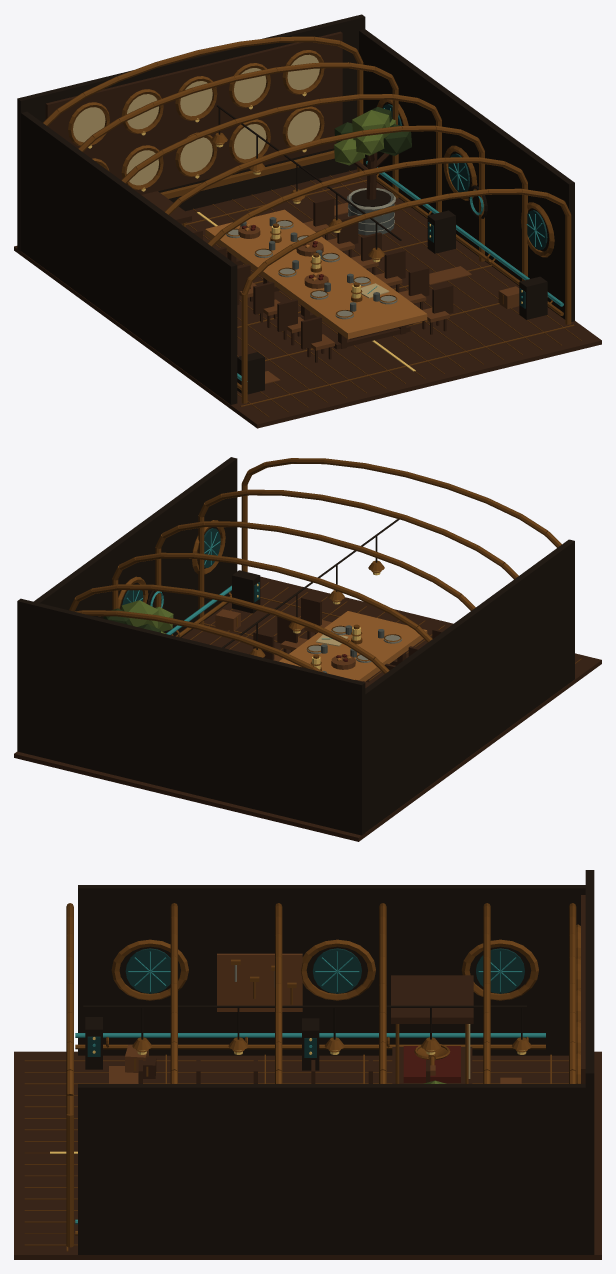
Rendered from ark-long-table-hall-e10.glb.
3 renders of one model, top to bottom at view 1: azimuth 30°, elevation 25°; view 2: azimuth 150°, elevation 25°; view 3: azimuth 270°, elevation 25°, orthographic. The views are drawn at different scales.
Visible parts, largest first — view 1: ArkLongTableHallE10; view 2: ArkLongTableHallE10; view 3: ArkLongTableHallE10.
Part boxes in pixels (bbox=[...]): ArkLongTableHallE10: bbox=[14, 14, 601, 428]; ArkLongTableHallE10: bbox=[14, 457, 601, 841]; ArkLongTableHallE10: bbox=[14, 870, 601, 1259].
Size of the model in its own units: 18 by 8.34 by 22.
1 material, 1 textured.
